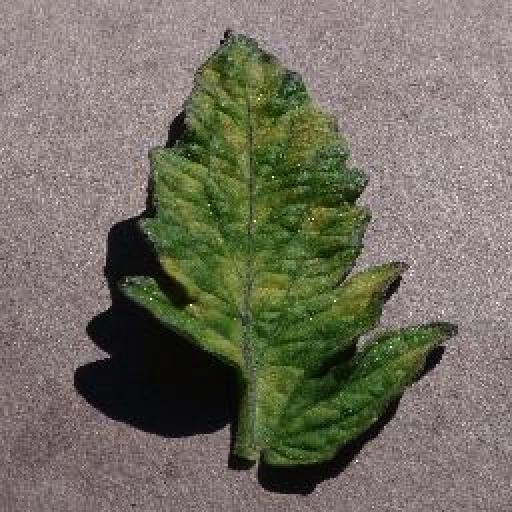disease_tomato: (120, 25, 462, 467)
